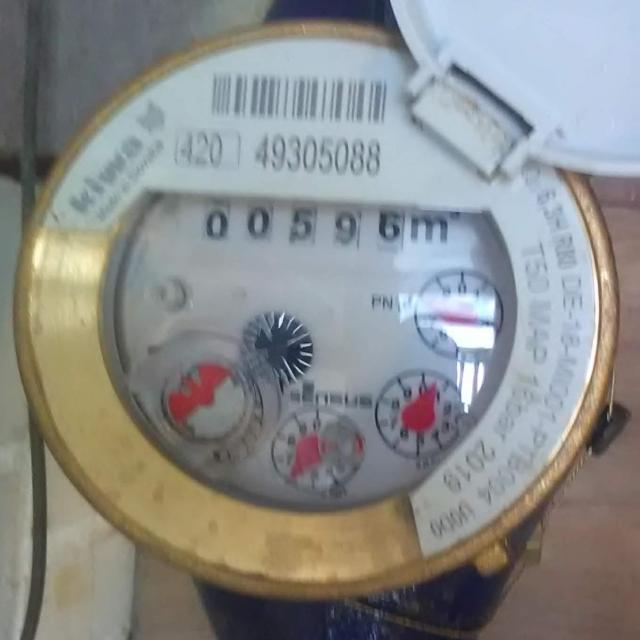gaz_meter: (18, 21, 622, 593)
indication: (181, 187, 416, 259)
